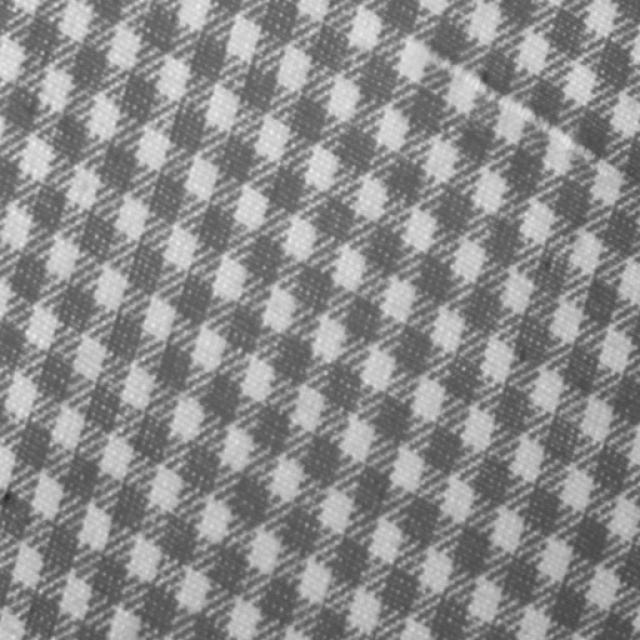Thread-Defect: (404, 35, 603, 170)
